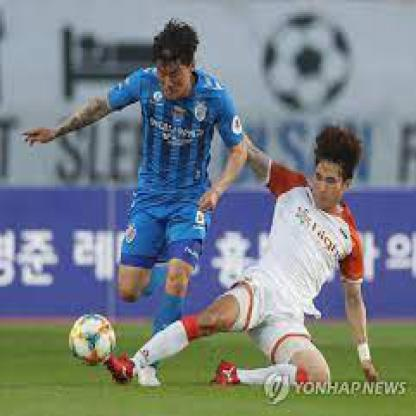Fall_Down: (102, 111, 388, 393)
